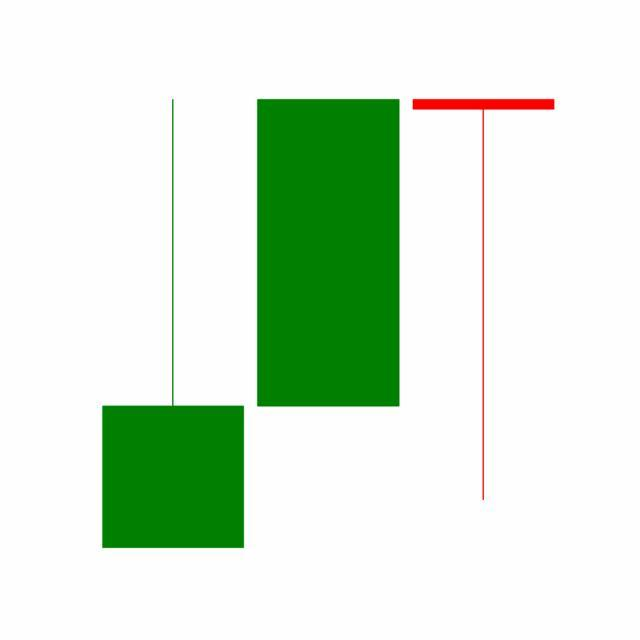Marubozu: (250, 96, 407, 410)
